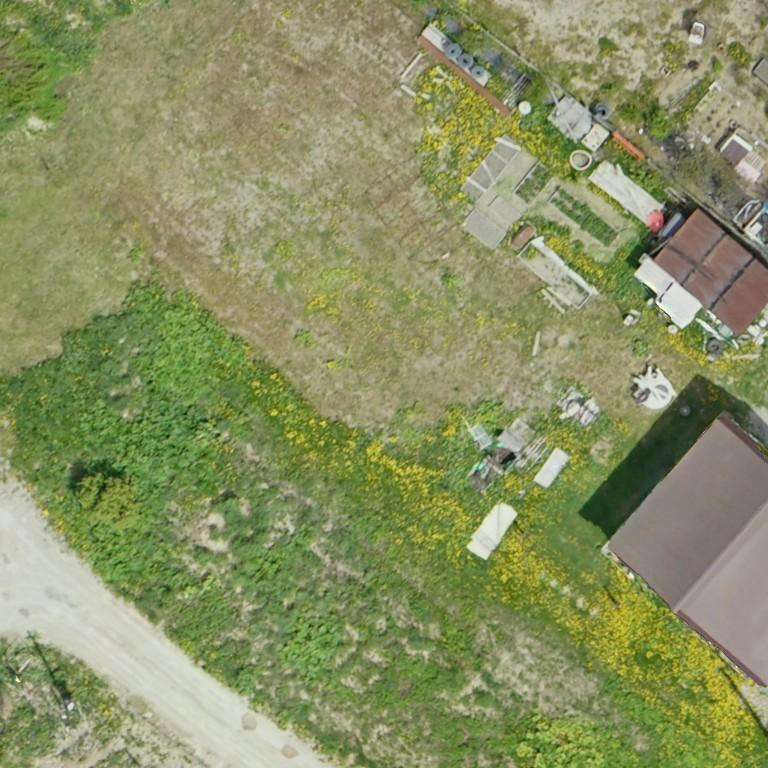hogweed: (79, 399, 218, 491), (286, 618, 339, 670)
